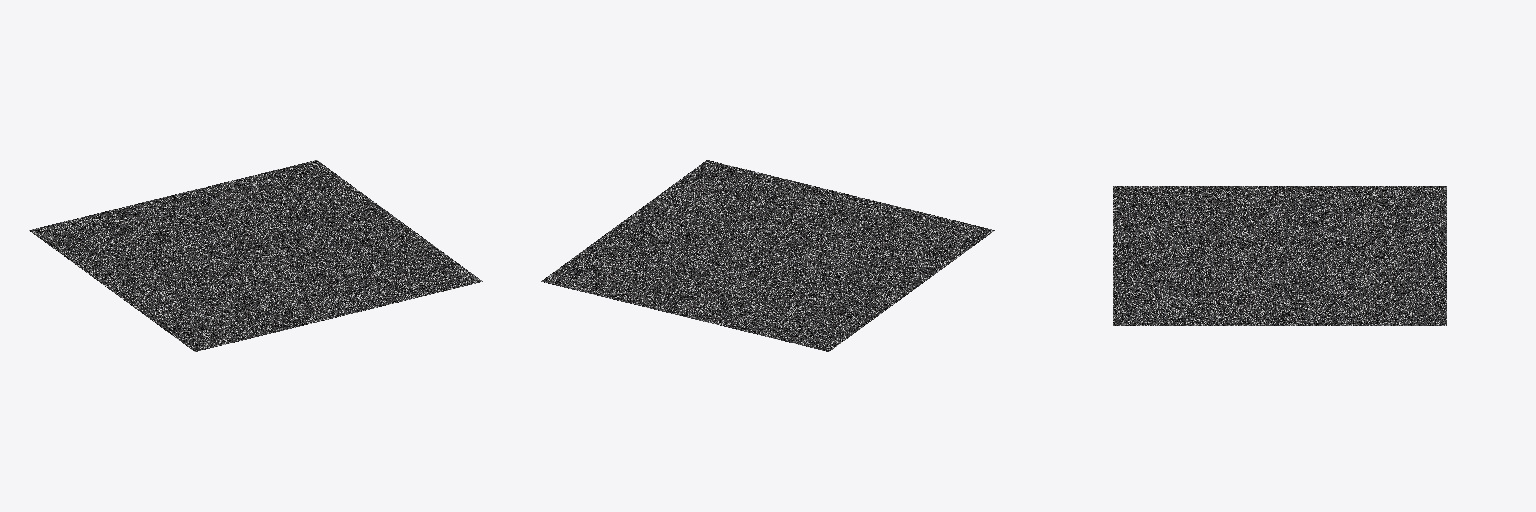
3 renders of one model, left to right at view 1: azimuth 30°, elevation 25°; view 2: azimuth 150°, elevation 25°; view 3: azimuth 270°, elevation 25°, orthographic.
Parts seen in each view (by area): view 1: Plane; view 2: Plane; view 3: Plane.
Boxes of the visible parts, box(x1,y1,x2,y2) form: Plane: box(29, 160, 482, 351); Plane: box(541, 160, 994, 351); Plane: box(1113, 186, 1446, 325).
Bounding box in the file's own units: 80 × 0 × 80.
Materials: 1 (1 with a texture image).